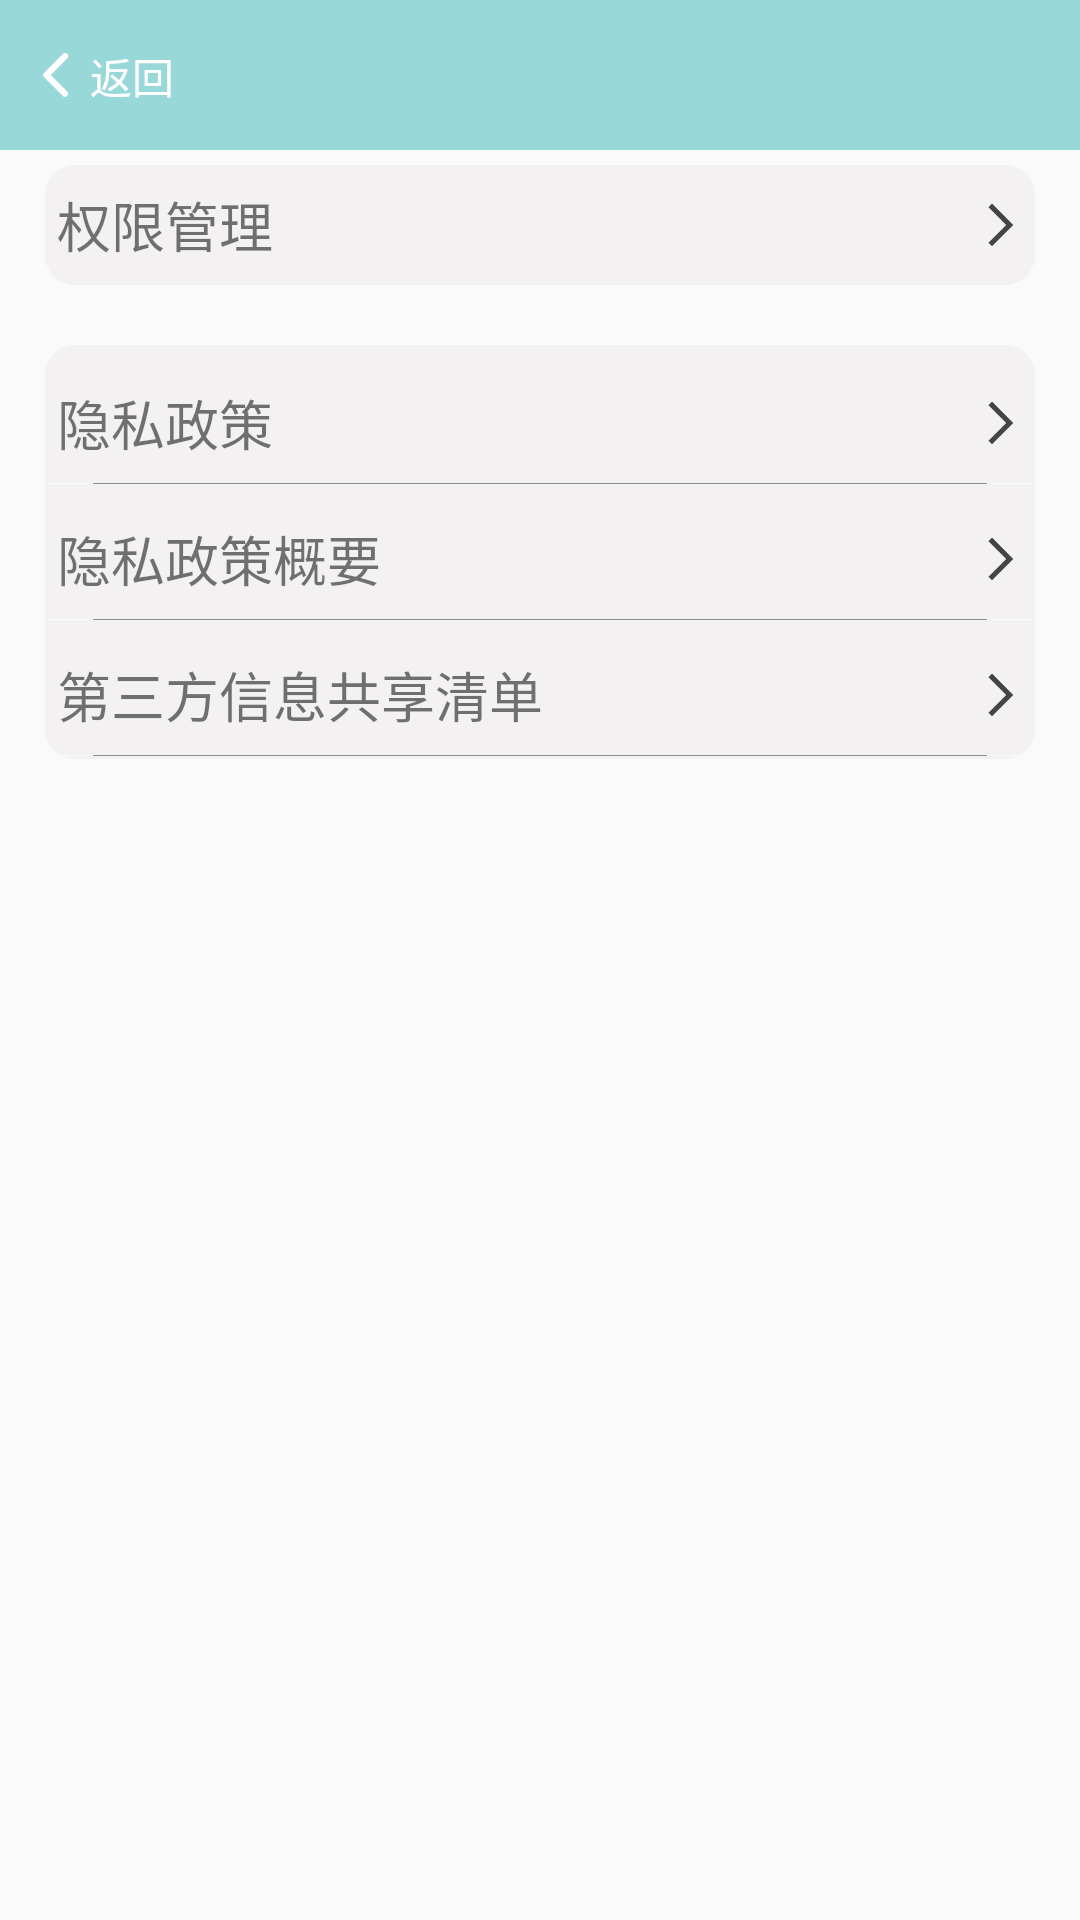

Icons on this 1080 × 1920 Android screen, each with the point to tap as (x=x, y=y):
next: (x=1000, y=225), (x=1000, y=423), (x=1000, y=559), (x=1000, y=695)
